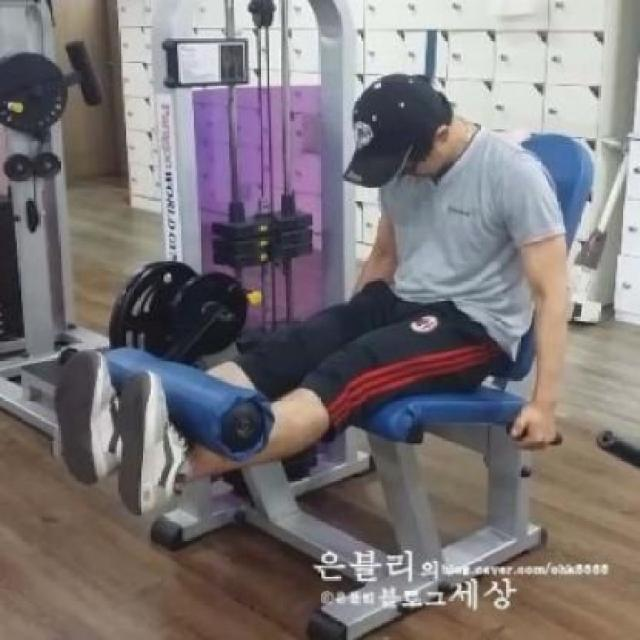leg extension: (23, 0, 594, 635)
